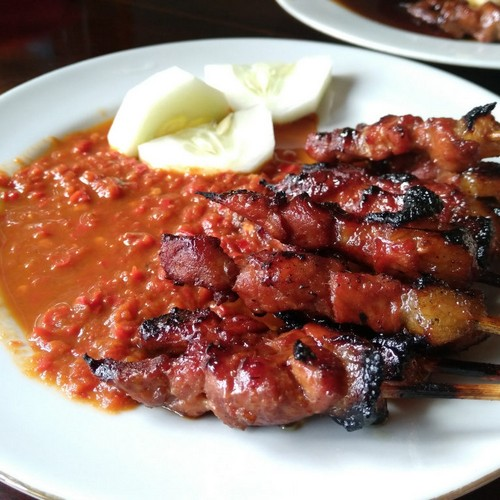sate plecing: (149, 231, 460, 356), (76, 333, 405, 439), (200, 181, 495, 271), (295, 123, 499, 175)
